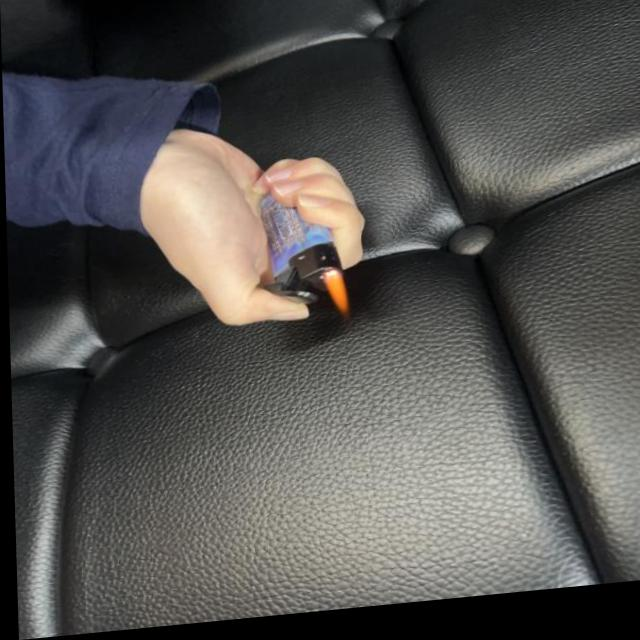Fire: (319, 274, 348, 324)
